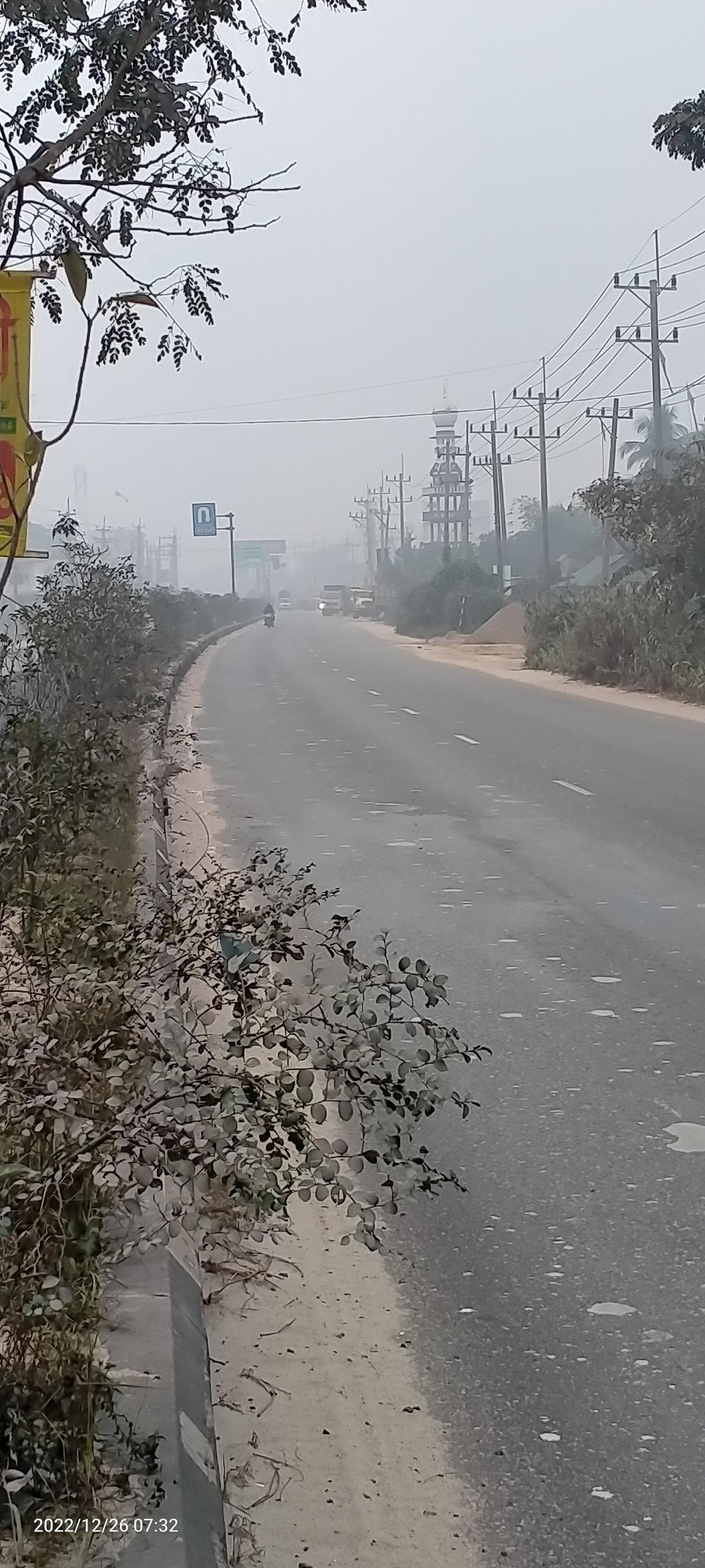Bike: (260, 599, 277, 633)
Truck: (312, 582, 351, 618)
